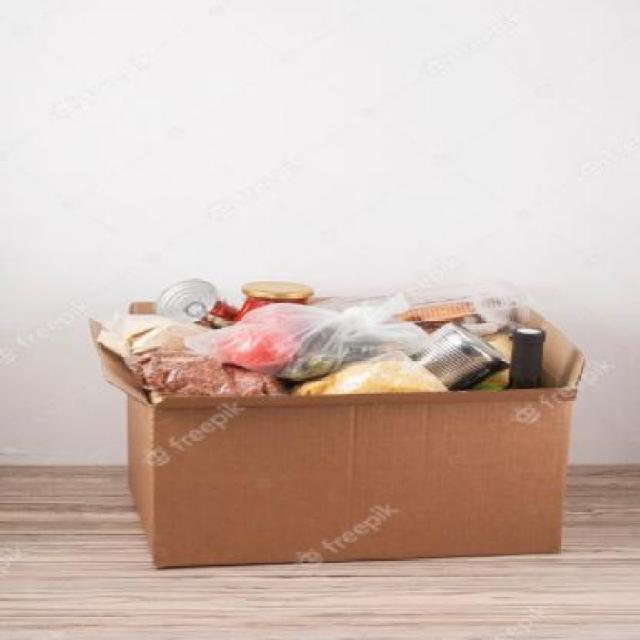box: (91, 299, 576, 571)
